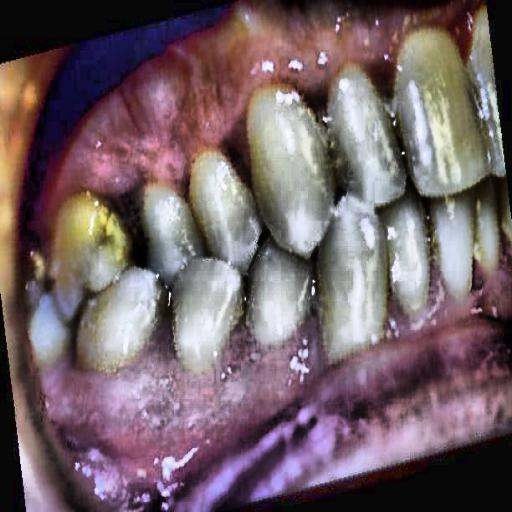Gingivitis: (56, 310, 368, 475), (68, 25, 364, 184)
